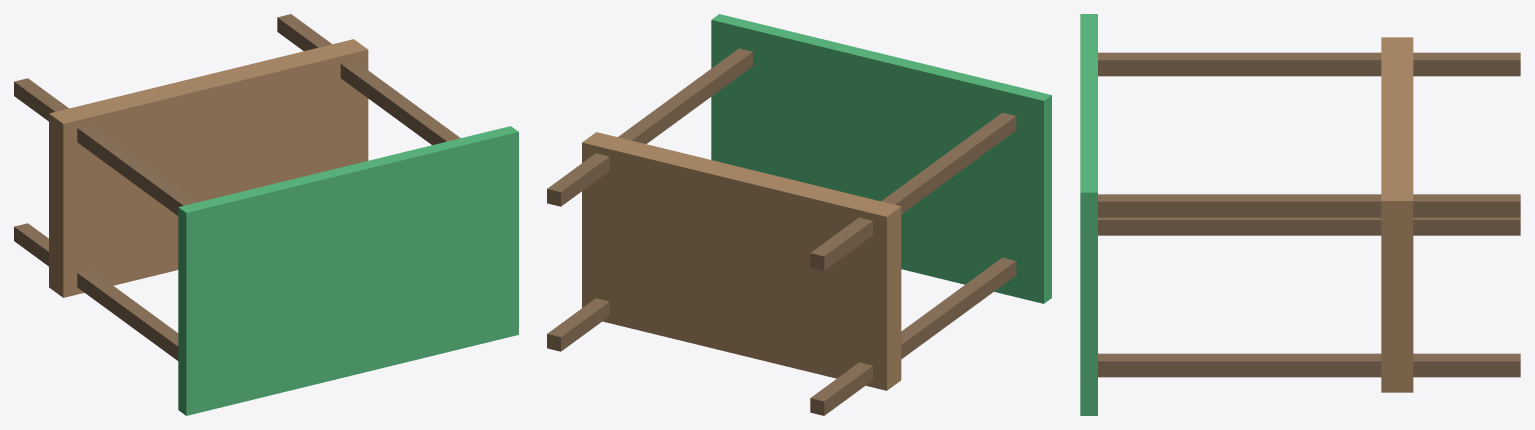
Rendered from shop_market_stall.glb.
3 renders of one model, left to right at view 1: azimuth 30°, elevation 25°; view 2: azimuth 150°, elevation 25°; view 3: azimuth 270°, elevation 25°, orthographic. The views are drawn at different scales.
Parts seen in each view (by area): view 1: canopy, counter, post_3, post_4, post_1; view 2: counter, canopy, post_3, post_4, post_1, post_2; view 3: counter, post_2, post_3, post_4, post_1, canopy.
Boxes of the visible parts, x1=… form: canopy: x1=178, y1=126, x2=518, y2=415; counter: x1=49, y1=39, x2=368, y2=297; post_3: x1=14, y1=78, x2=197, y2=215; post_4: x1=277, y1=14, x2=460, y2=144; post_1: x1=14, y1=223, x2=178, y2=360; counter: x1=582, y1=132, x2=901, y2=390; canopy: x1=711, y1=14, x2=1051, y2=303; post_3: x1=810, y1=112, x2=1016, y2=270; post_4: x1=547, y1=48, x2=752, y2=206; post_1: x1=810, y1=257, x2=1016, y2=415; post_2: x1=547, y1=298, x2=609, y2=351; counter: x1=1381, y1=37, x2=1413, y2=392; post_2: x1=1098, y1=353, x2=1520, y2=377; post_3: x1=1098, y1=52, x2=1520, y2=76; post_4: x1=1098, y1=194, x2=1520, y2=217; post_1: x1=1098, y1=217, x2=1520, y2=235; canopy: x1=1080, y1=14, x2=1097, y2=415.
Bounding box in the file's own units: 2.4 × 1.4 × 2.5.
